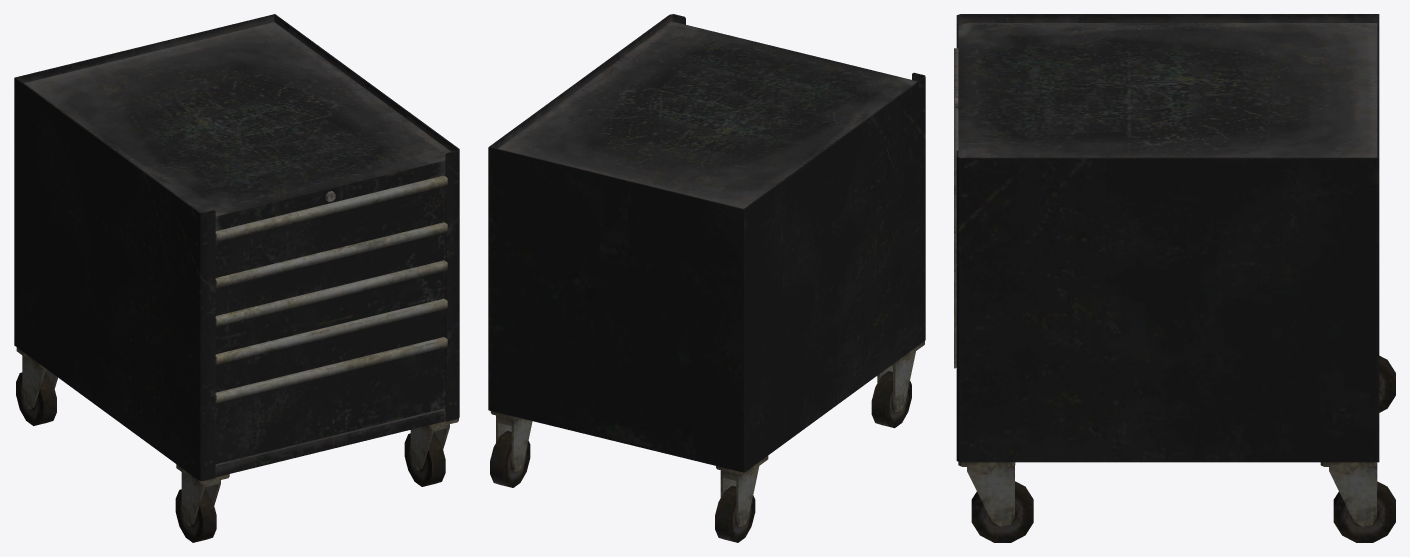
File: 039_OfficeCabinet.fbx
3 views of the same model, side by side, from view 1: azimuth 30°, elevation 25°; view 2: azimuth 150°, elevation 25°; view 3: azimuth 270°, elevation 25° (orthographic). The views are drawn at different scales.
Parts seen in each view (by area): view 1: LOD_1_Group_0_Sub_1__sm30_039_OfficeCabinet06A_A_Mat, LOD_1_Group_5_Sub_1__sm30_039_OfficeCabinet06A_A_Mat; view 2: LOD_1_Group_0_Sub_1__sm30_039_OfficeCabinet06A_A_Mat; view 3: LOD_1_Group_0_Sub_1__sm30_039_OfficeCabinet06A_A_Mat, LOD_1_Group_5_Sub_1__sm30_039_OfficeCabinet06A_A_Mat.
Part boxes in pixels (x1,y1,x2,y2): LOD_1_Group_0_Sub_1__sm30_039_OfficeCabinet06A_A_Mat: (14,14,459,542); LOD_1_Group_5_Sub_1__sm30_039_OfficeCabinet06A_A_Mat: (215,175,447,463); LOD_1_Group_0_Sub_1__sm30_039_OfficeCabinet06A_A_Mat: (488,14,925,542); LOD_1_Group_0_Sub_1__sm30_039_OfficeCabinet06A_A_Mat: (955,14,1395,542); LOD_1_Group_5_Sub_1__sm30_039_OfficeCabinet06A_A_Mat: (954,48,958,368).
Size of the model in its own units: 0.5891 by 0.7413 by 0.7618.
